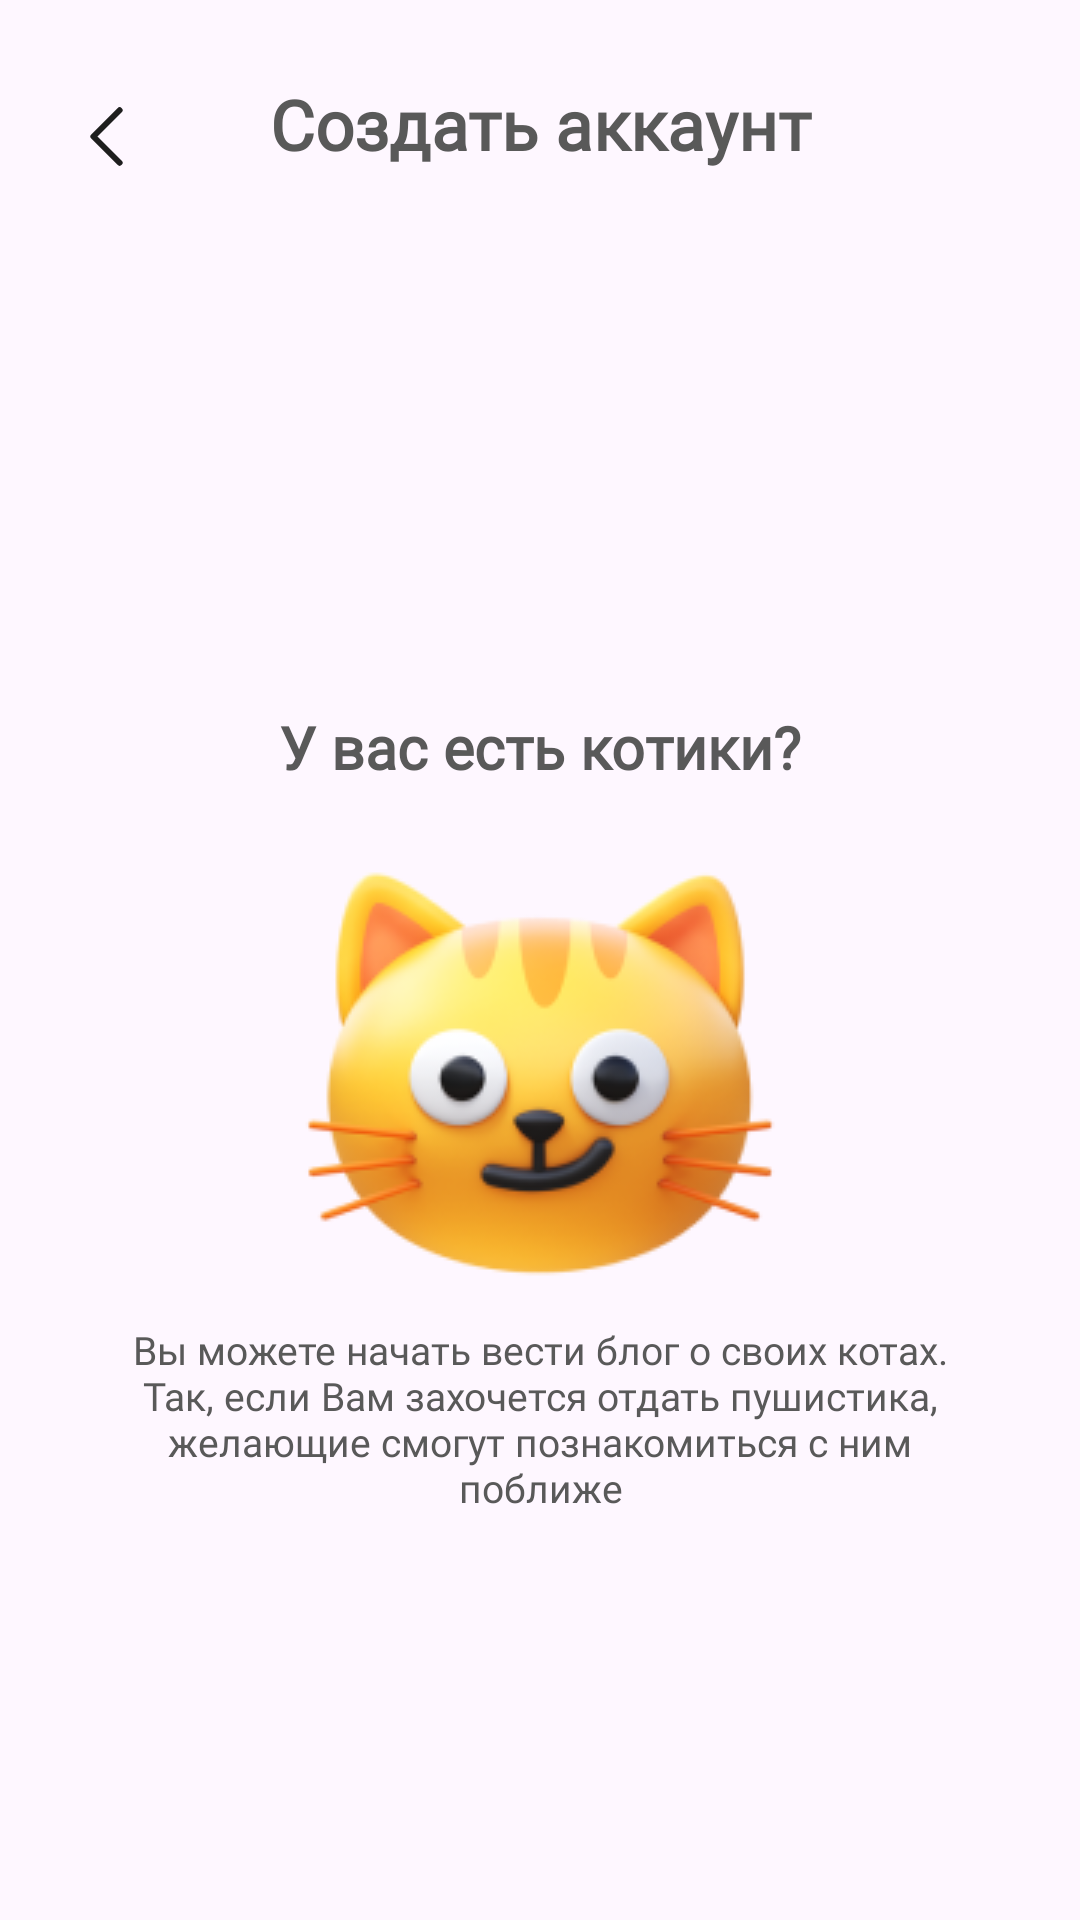

Icon bounding boxes for this 1080×1920 phone screenshot, format {"x1": x1, "y1": y1, "x2": x2, "y2": y2}:
back: {"x1": 90, "y1": 107, "x2": 123, "y2": 166}
